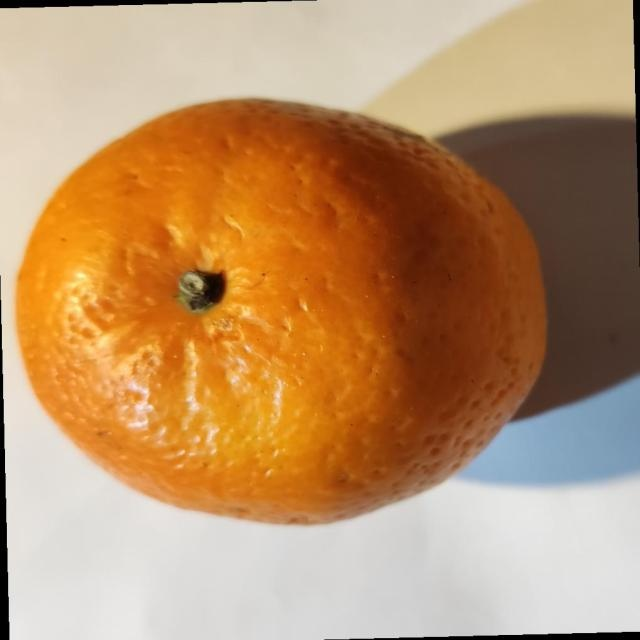agrume: (14, 96, 549, 527)
